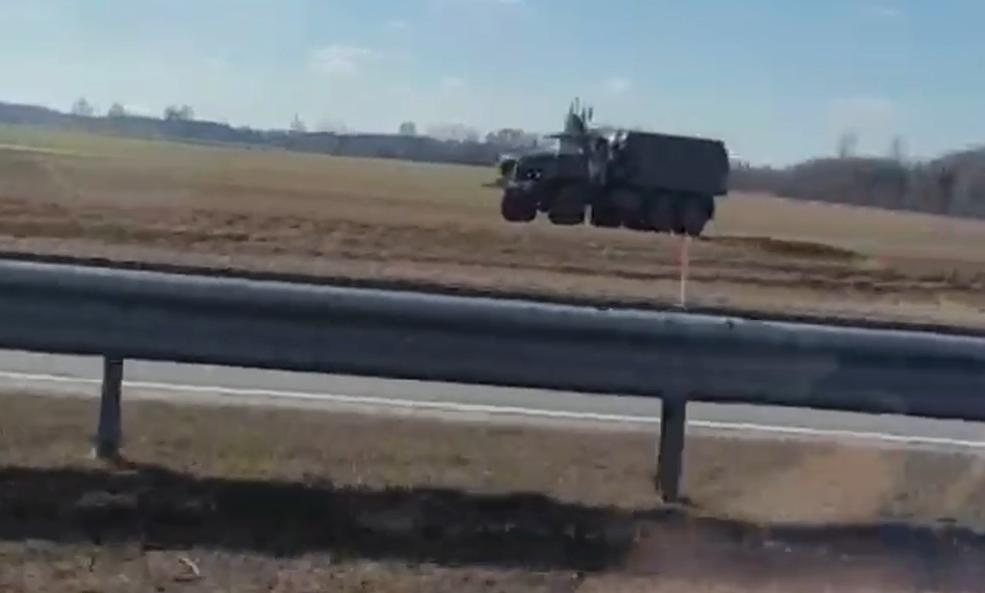truck: (491, 115, 735, 240)
